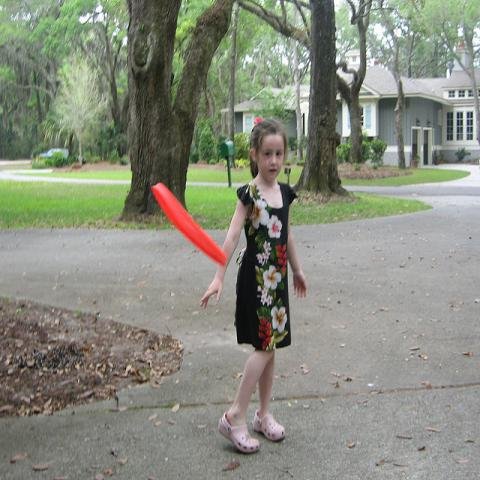car: (39, 147, 67, 158)
